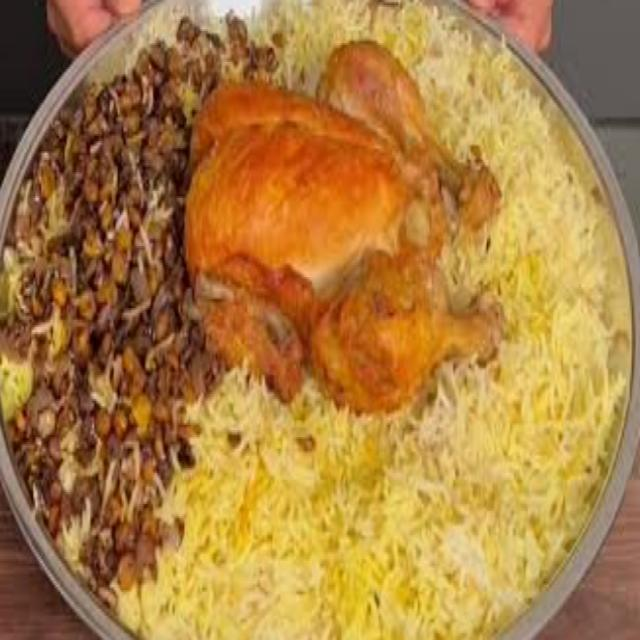Machboos: (12, 31, 626, 632)
